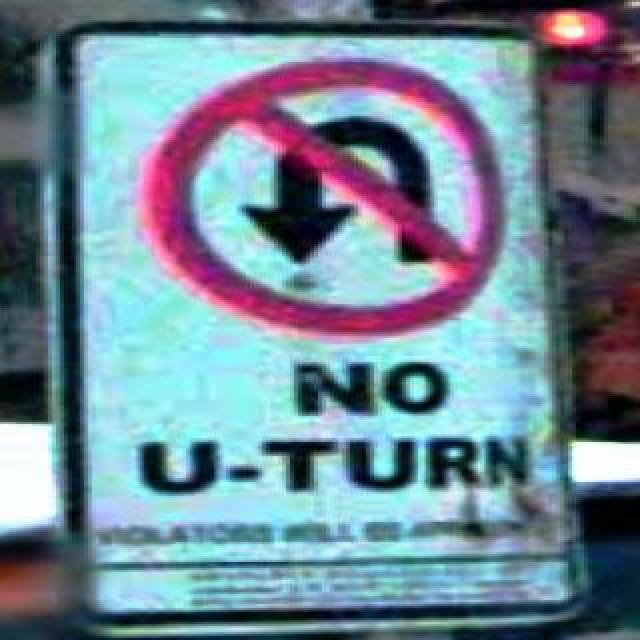no u turn: (128, 56, 514, 342)
